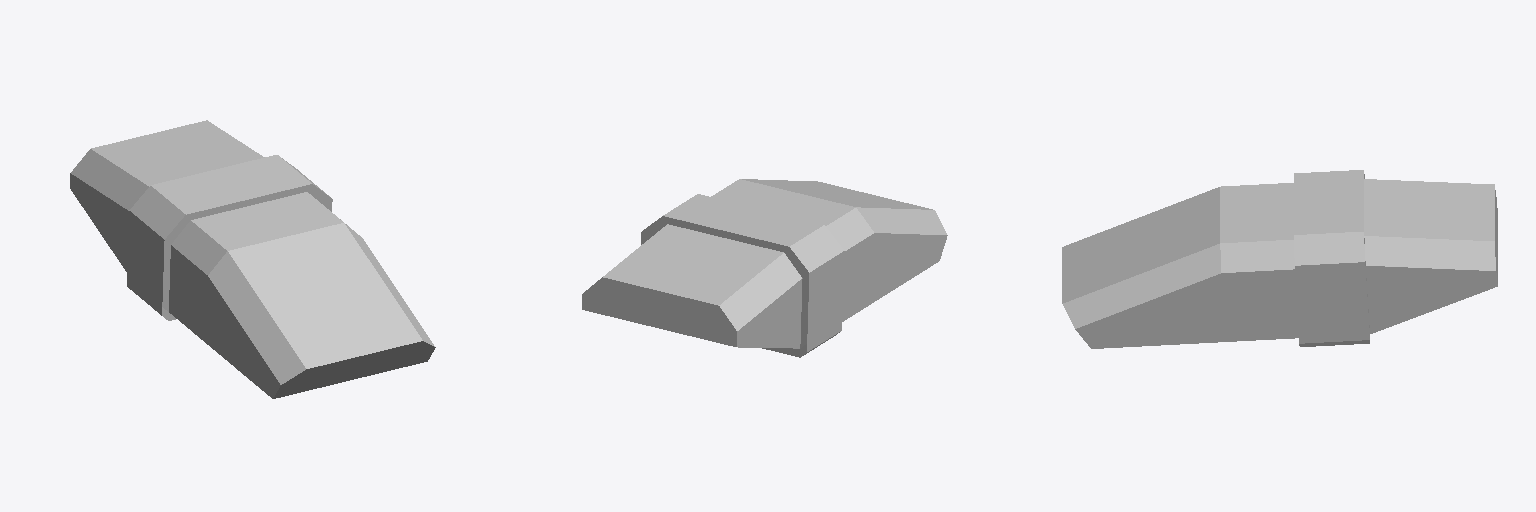
Rendered from DuelTank_Turret_smooth.obj.
3 views of the same model, side by side, from view 1: azimuth 30°, elevation 25°; view 2: azimuth 150°, elevation 25°; view 3: azimuth 270°, elevation 25° (orthographic).
Parts seen in each view (by area): view 1: Cube.001_Cube.002; view 2: Cube.001_Cube.002; view 3: Cube.001_Cube.002.
Boxes of the visible parts, box(x1,y1,x2,y2) form: Cube.001_Cube.002: box(70, 120, 435, 398); Cube.001_Cube.002: box(582, 179, 947, 357); Cube.001_Cube.002: box(1062, 170, 1497, 348).
Size of the model in its own units: 1.31 by 0.8279 by 2.95.